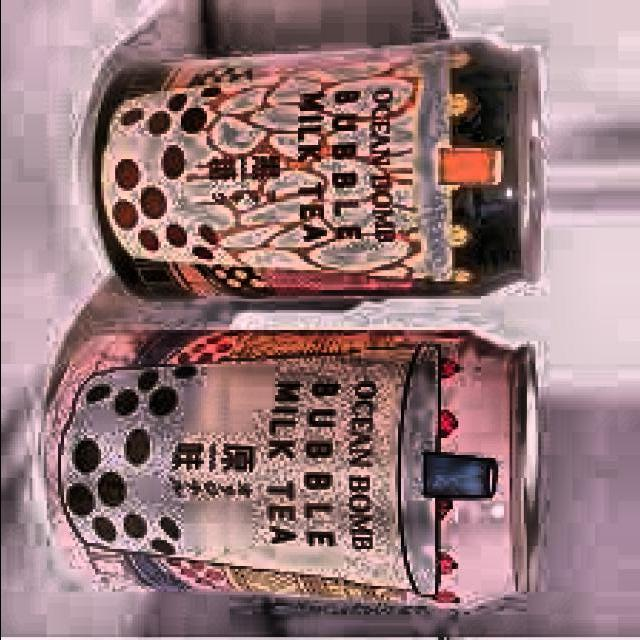litter: (38, 318, 550, 619), (72, 30, 552, 313)
